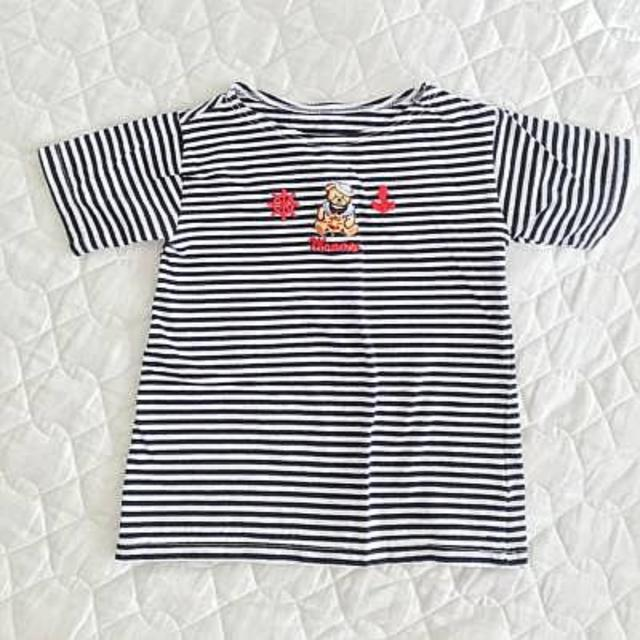T_SHIRT: (21, 75, 640, 574)
